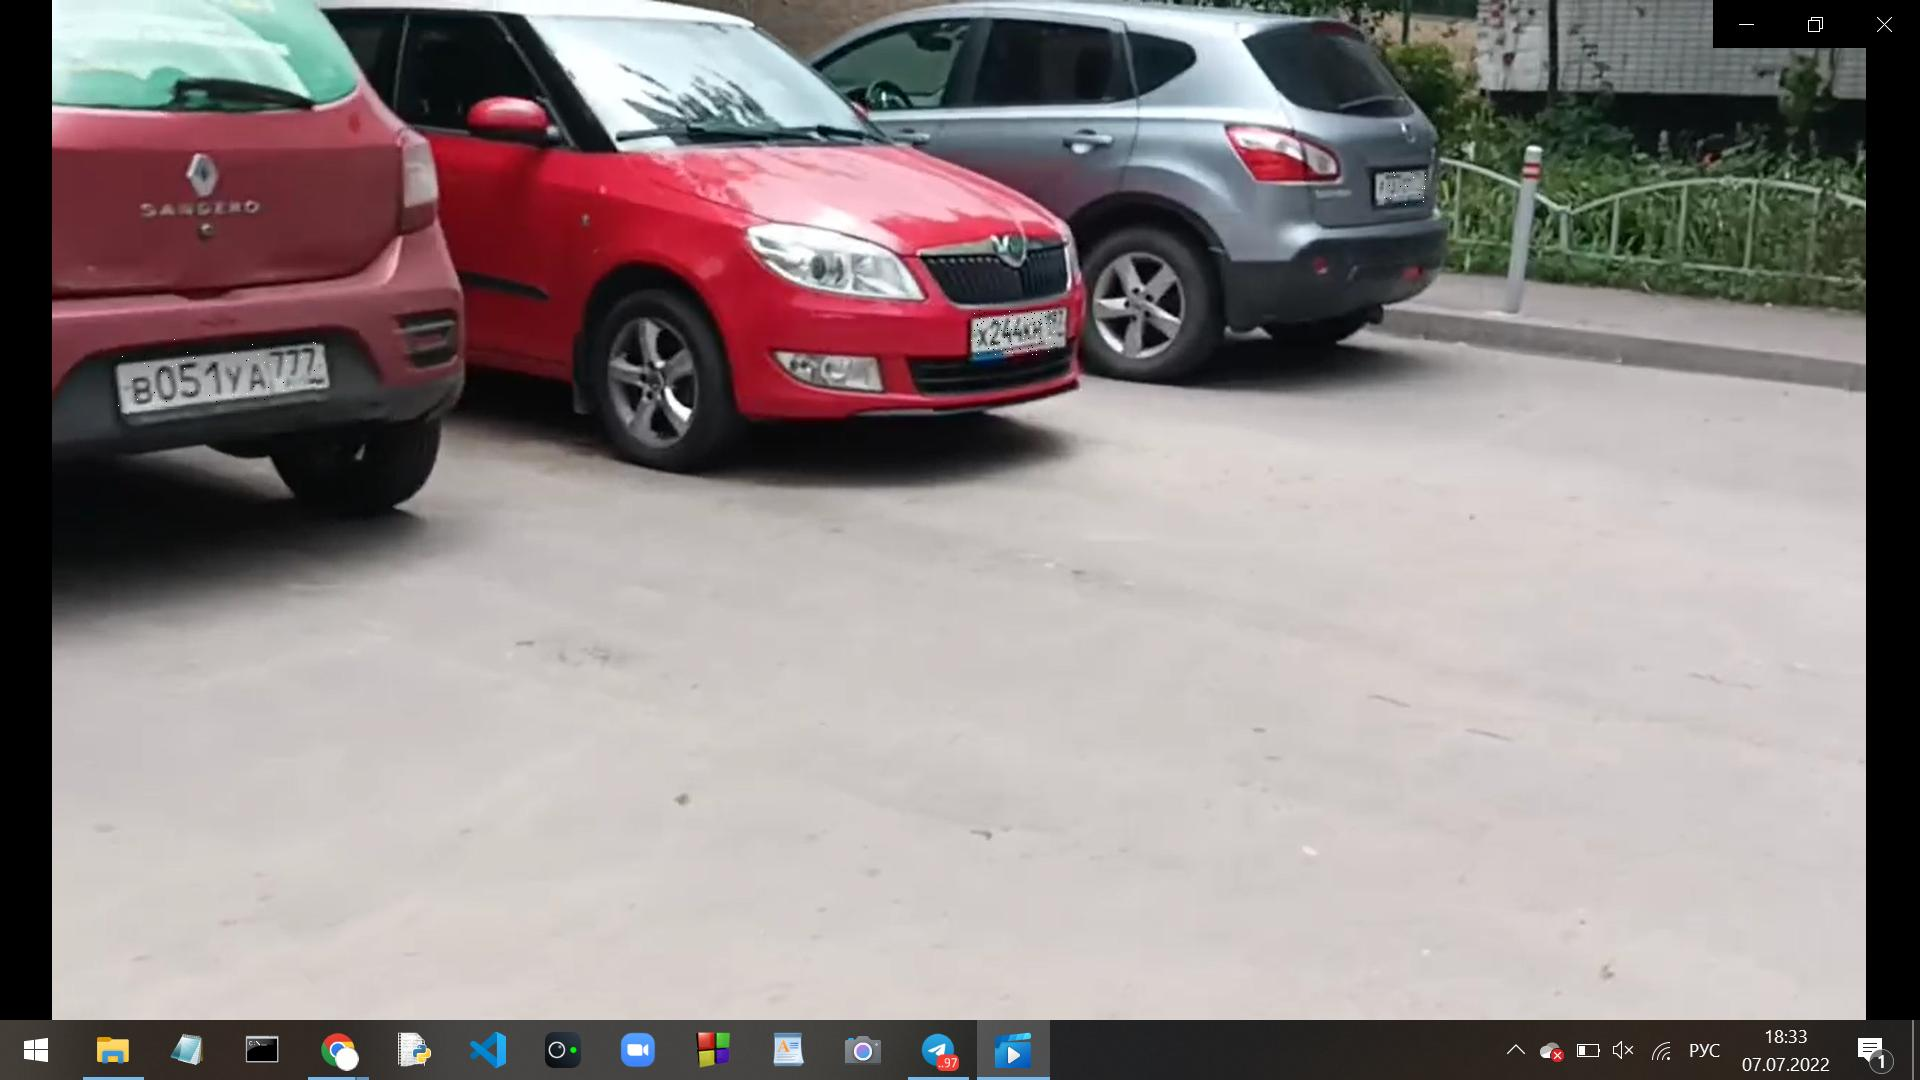plate: (119, 341, 317, 410), (973, 312, 1060, 357), (1386, 174, 1428, 207)
